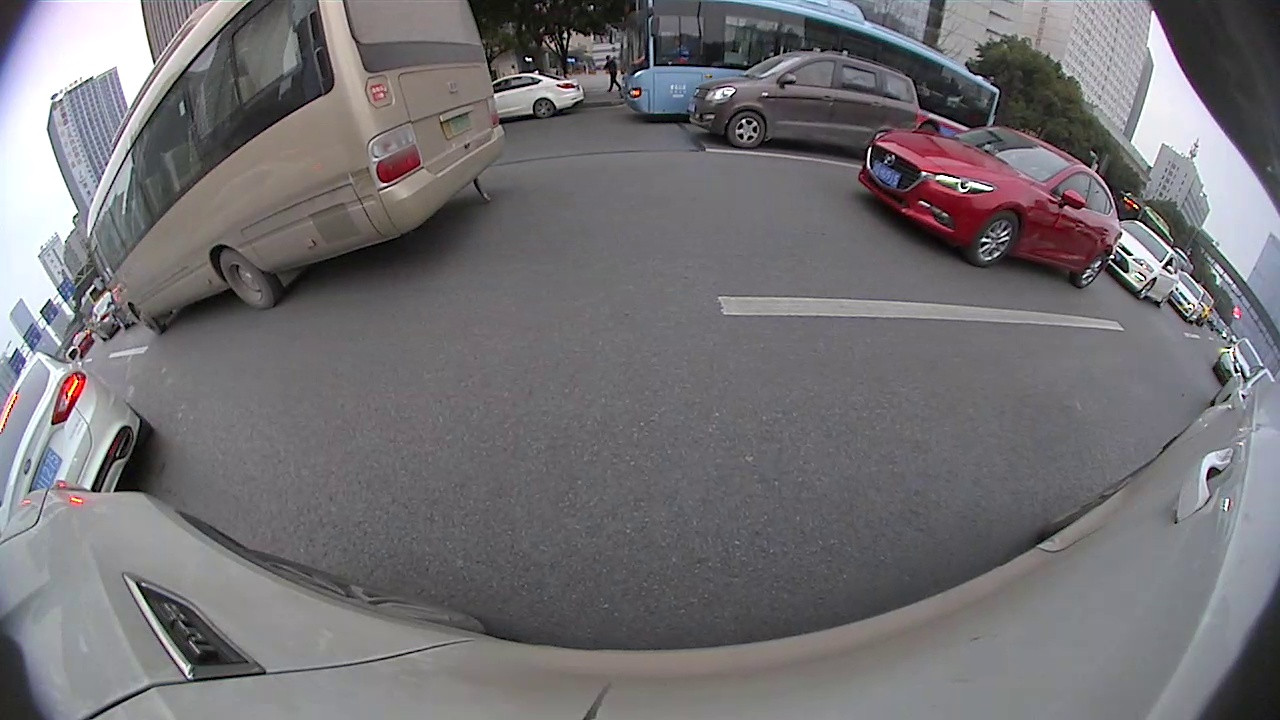bus: (88, 1, 508, 333), (621, 2, 999, 120)
car: (860, 127, 1118, 286), (1, 355, 153, 527), (689, 51, 920, 149), (1108, 220, 1178, 308), (493, 72, 583, 118)
front: (971, 211, 1023, 266), (728, 109, 766, 149), (133, 303, 162, 337), (1138, 276, 1158, 296)
rear: (219, 249, 277, 310), (1075, 254, 1110, 289), (532, 97, 556, 118)
